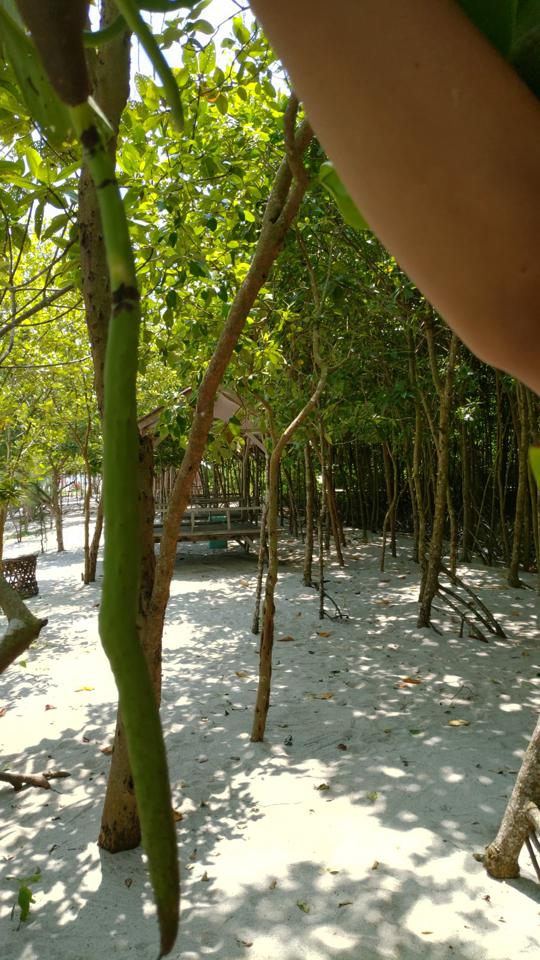setengah matang: (2, 1, 209, 958)
